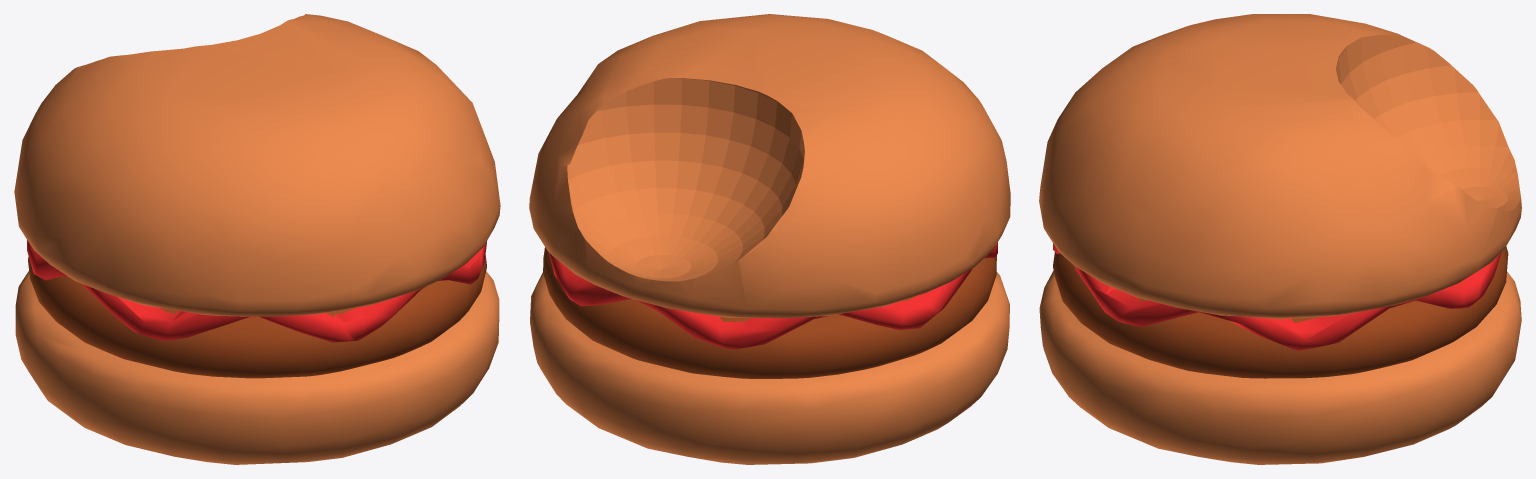
File: burger_bite01.glb
The picture shows the model from 3 angles, left to right: view 1: azimuth 30°, elevation 25°; view 2: azimuth 150°, elevation 25°; view 3: azimuth 270°, elevation 25°; orthographic projection.
Parts seen in each view (by area): view 1: burgar_bite01; view 2: burgar_bite01; view 3: burgar_bite01.
Boxes of the visible parts, <box> form: burgar_bite01: <box>14,14,500,464</box>; burgar_bite01: <box>529,14,1010,464</box>; burgar_bite01: <box>1039,14,1521,464</box>.
Size of the model in its own units: 0.2227 by 0.1626 by 0.2225.
